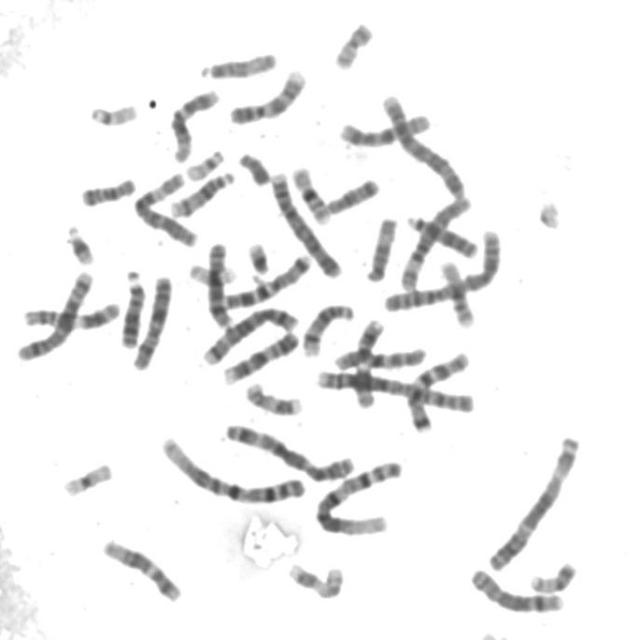A1: (157, 429, 310, 506), (311, 452, 407, 538)
A2: (378, 222, 508, 314), (311, 363, 479, 414)
A3: (484, 427, 585, 572), (220, 416, 360, 483)
B4: (376, 86, 470, 203), (265, 163, 346, 280)
B5: (11, 265, 96, 362), (198, 298, 304, 367)
C10: (334, 106, 436, 149), (329, 338, 431, 371)
C11: (17, 294, 124, 332), (350, 312, 390, 409)
C12: (97, 531, 187, 604), (166, 82, 223, 163)
C6: (396, 190, 475, 293), (129, 166, 202, 249)
C7: (404, 344, 474, 434), (218, 247, 316, 310)
C8: (465, 561, 568, 615), (203, 236, 237, 330)
C9: (225, 62, 310, 126), (218, 324, 304, 386)
D13: (403, 207, 481, 260), (116, 264, 148, 350)
D14: (165, 164, 239, 219), (299, 296, 358, 358)
D15: (196, 44, 280, 81), (360, 210, 400, 284)
E16: (434, 254, 480, 328), (287, 159, 334, 225)
E17: (284, 556, 349, 602), (241, 376, 307, 418)
E18: (322, 171, 384, 216), (77, 170, 140, 208)
F19: (58, 455, 117, 498), (185, 256, 239, 286)
F20: (329, 14, 377, 70), (526, 555, 581, 594)
G21: (60, 218, 99, 266), (243, 235, 275, 278)
G22: (84, 96, 142, 128), (181, 143, 228, 182)
X: (127, 268, 177, 372)
Y: (234, 144, 274, 188)
